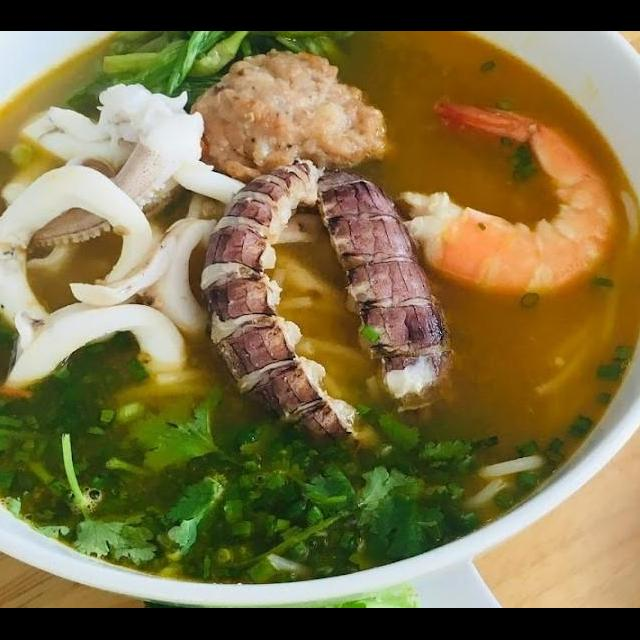bun hai san: (0, 63, 640, 608)
muc: (410, 79, 640, 279), (272, 64, 538, 205), (172, 78, 362, 225), (284, 130, 467, 252)
tom: (337, 372, 623, 544)
tom tit: (109, 228, 558, 380), (155, 311, 534, 422)
